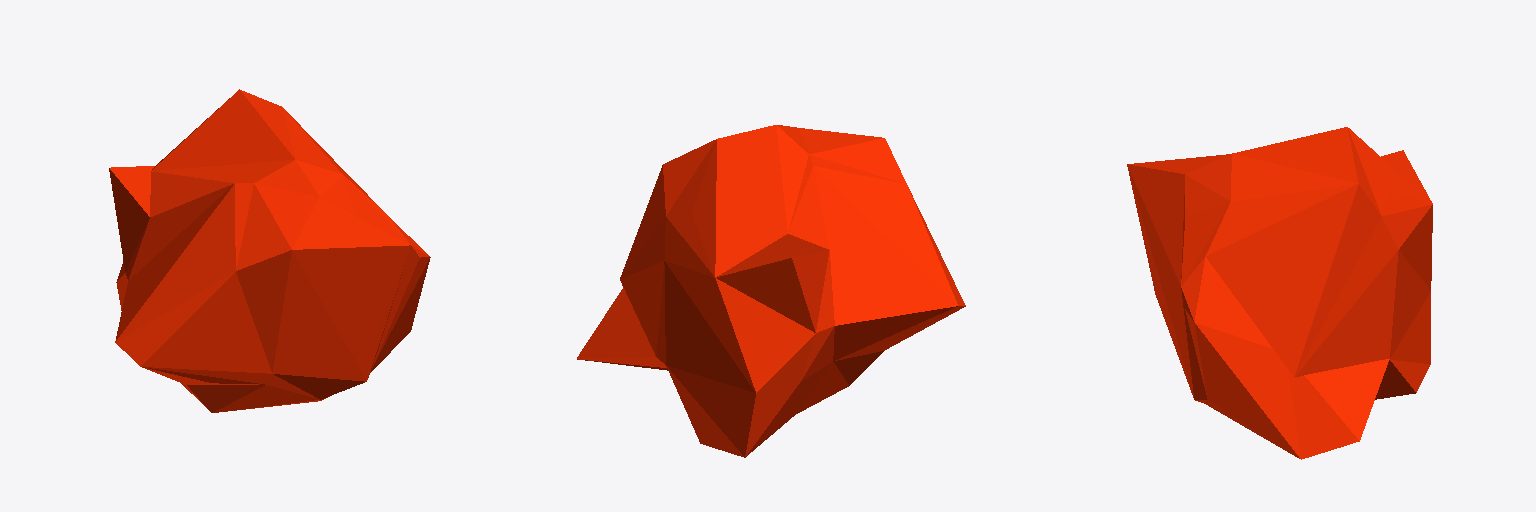
File: Rock3.obj
The picture shows the model from 3 angles: view 1: azimuth 30°, elevation 25°; view 2: azimuth 150°, elevation 25°; view 3: azimuth 270°, elevation 25°; orthographic projection.
Parts seen in each view (by area): view 1: Icosphere.017_Icosphere.016; view 2: Icosphere.017_Icosphere.016; view 3: Icosphere.017_Icosphere.016.
Boxes of the visible parts, box(x1,y1,x2,y2) form: Icosphere.017_Icosphere.016: box(109, 89, 430, 412); Icosphere.017_Icosphere.016: box(577, 125, 965, 457); Icosphere.017_Icosphere.016: box(1127, 127, 1432, 459).
Bounding box in the file's own units: 1.81 × 1.44 × 1.45.